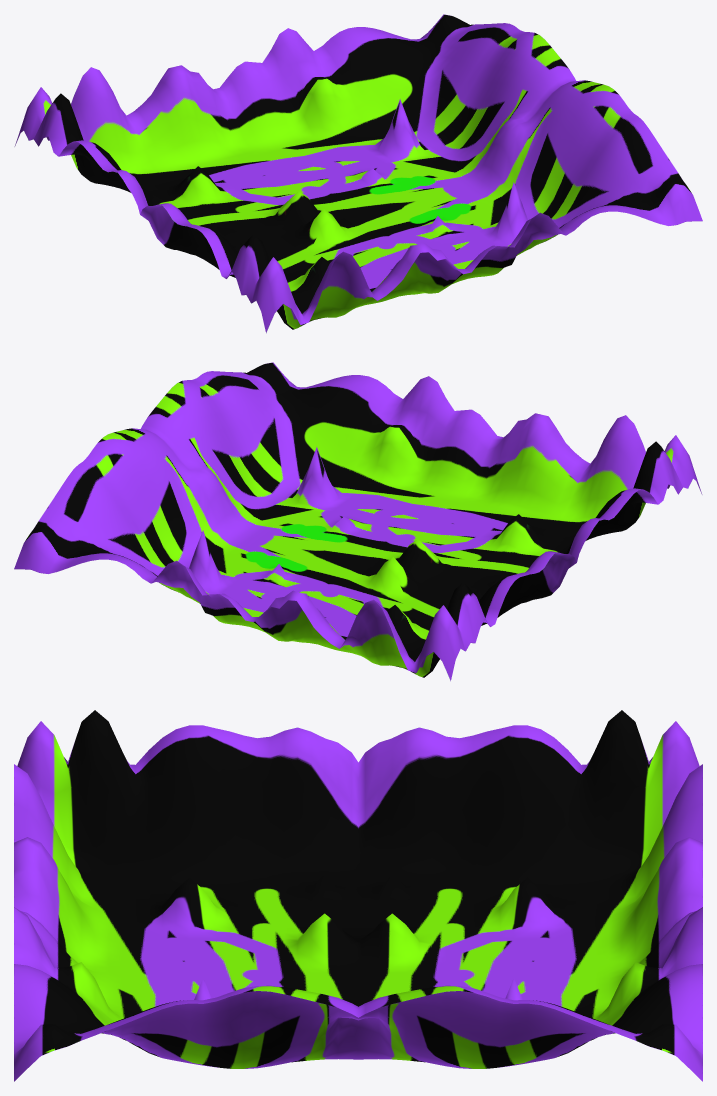
Rendered from seaweeds.glb.
3 views of the same model, one above another, from view 1: azimuth 30°, elevation 25°; view 2: azimuth 150°, elevation 25°; view 3: azimuth 270°, elevation 25° (orthographic). The views are drawn at different scales.
Visible parts, largest first — view 1: Plane; view 2: Plane; view 3: Plane.
Boxes of the visible parts, <box> form: Plane: <box>14,14,702,333</box>; Plane: <box>14,362,702,681</box>; Plane: <box>14,710,702,1081</box>.
Bounding box in the file's own units: 202 × 44.33 × 202.
1 material, 1 textured.
